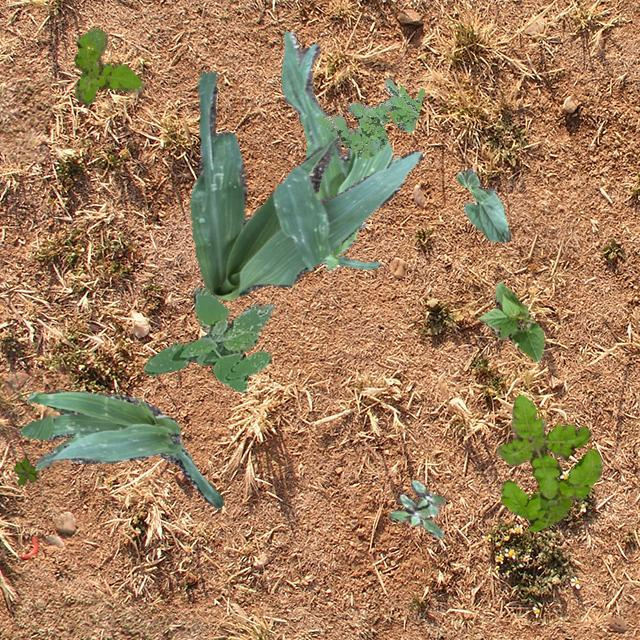crop: (188, 70, 422, 300), (19, 388, 222, 506), (279, 30, 392, 228), (318, 156, 399, 270), (476, 282, 544, 361), (454, 168, 510, 240)
weed: (496, 394, 602, 530), (142, 286, 272, 390), (316, 78, 424, 158), (72, 28, 142, 104), (388, 478, 444, 538), (12, 456, 38, 484)
